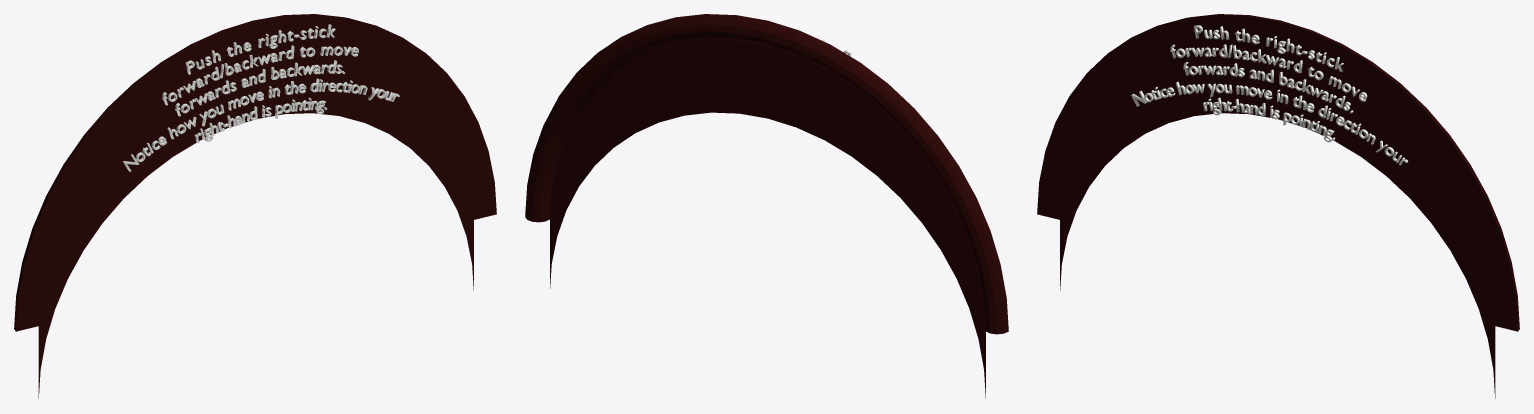
Rendered from arc0.obj.
3 views of the same model, side by side, from view 1: azimuth 30°, elevation 25°; view 2: azimuth 150°, elevation 25°; view 3: azimuth 330°, elevation 25° (orthographic).
Parts seen in each view (by area): view 1: arc0; view 2: arc0; view 3: arc0.
Boxes of the visible parts, x1=… form: arc0: x1=14, y1=14, x2=496, y2=398; arc0: x1=525, y1=14, x2=1008, y2=398; arc0: x1=1037, y1=14, x2=1519, y2=398.
Bounding box in the file's own units: 75.66 × 48.93 × 3.79.
